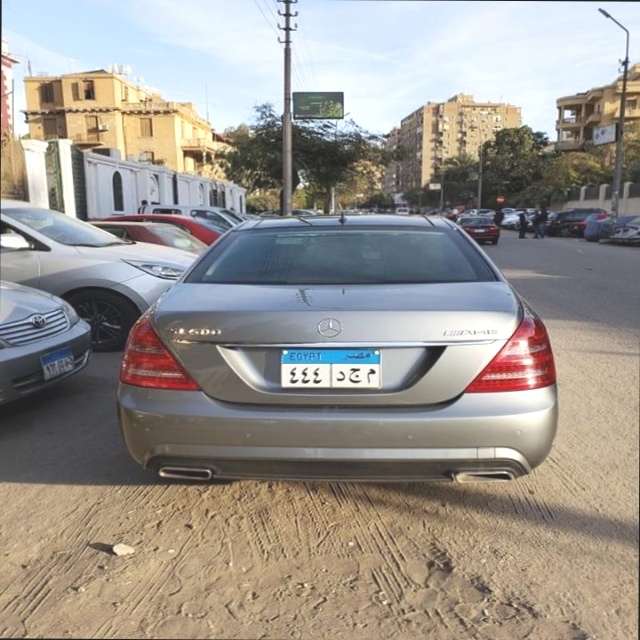License Plate: (278, 347, 382, 391), (38, 344, 78, 383)
